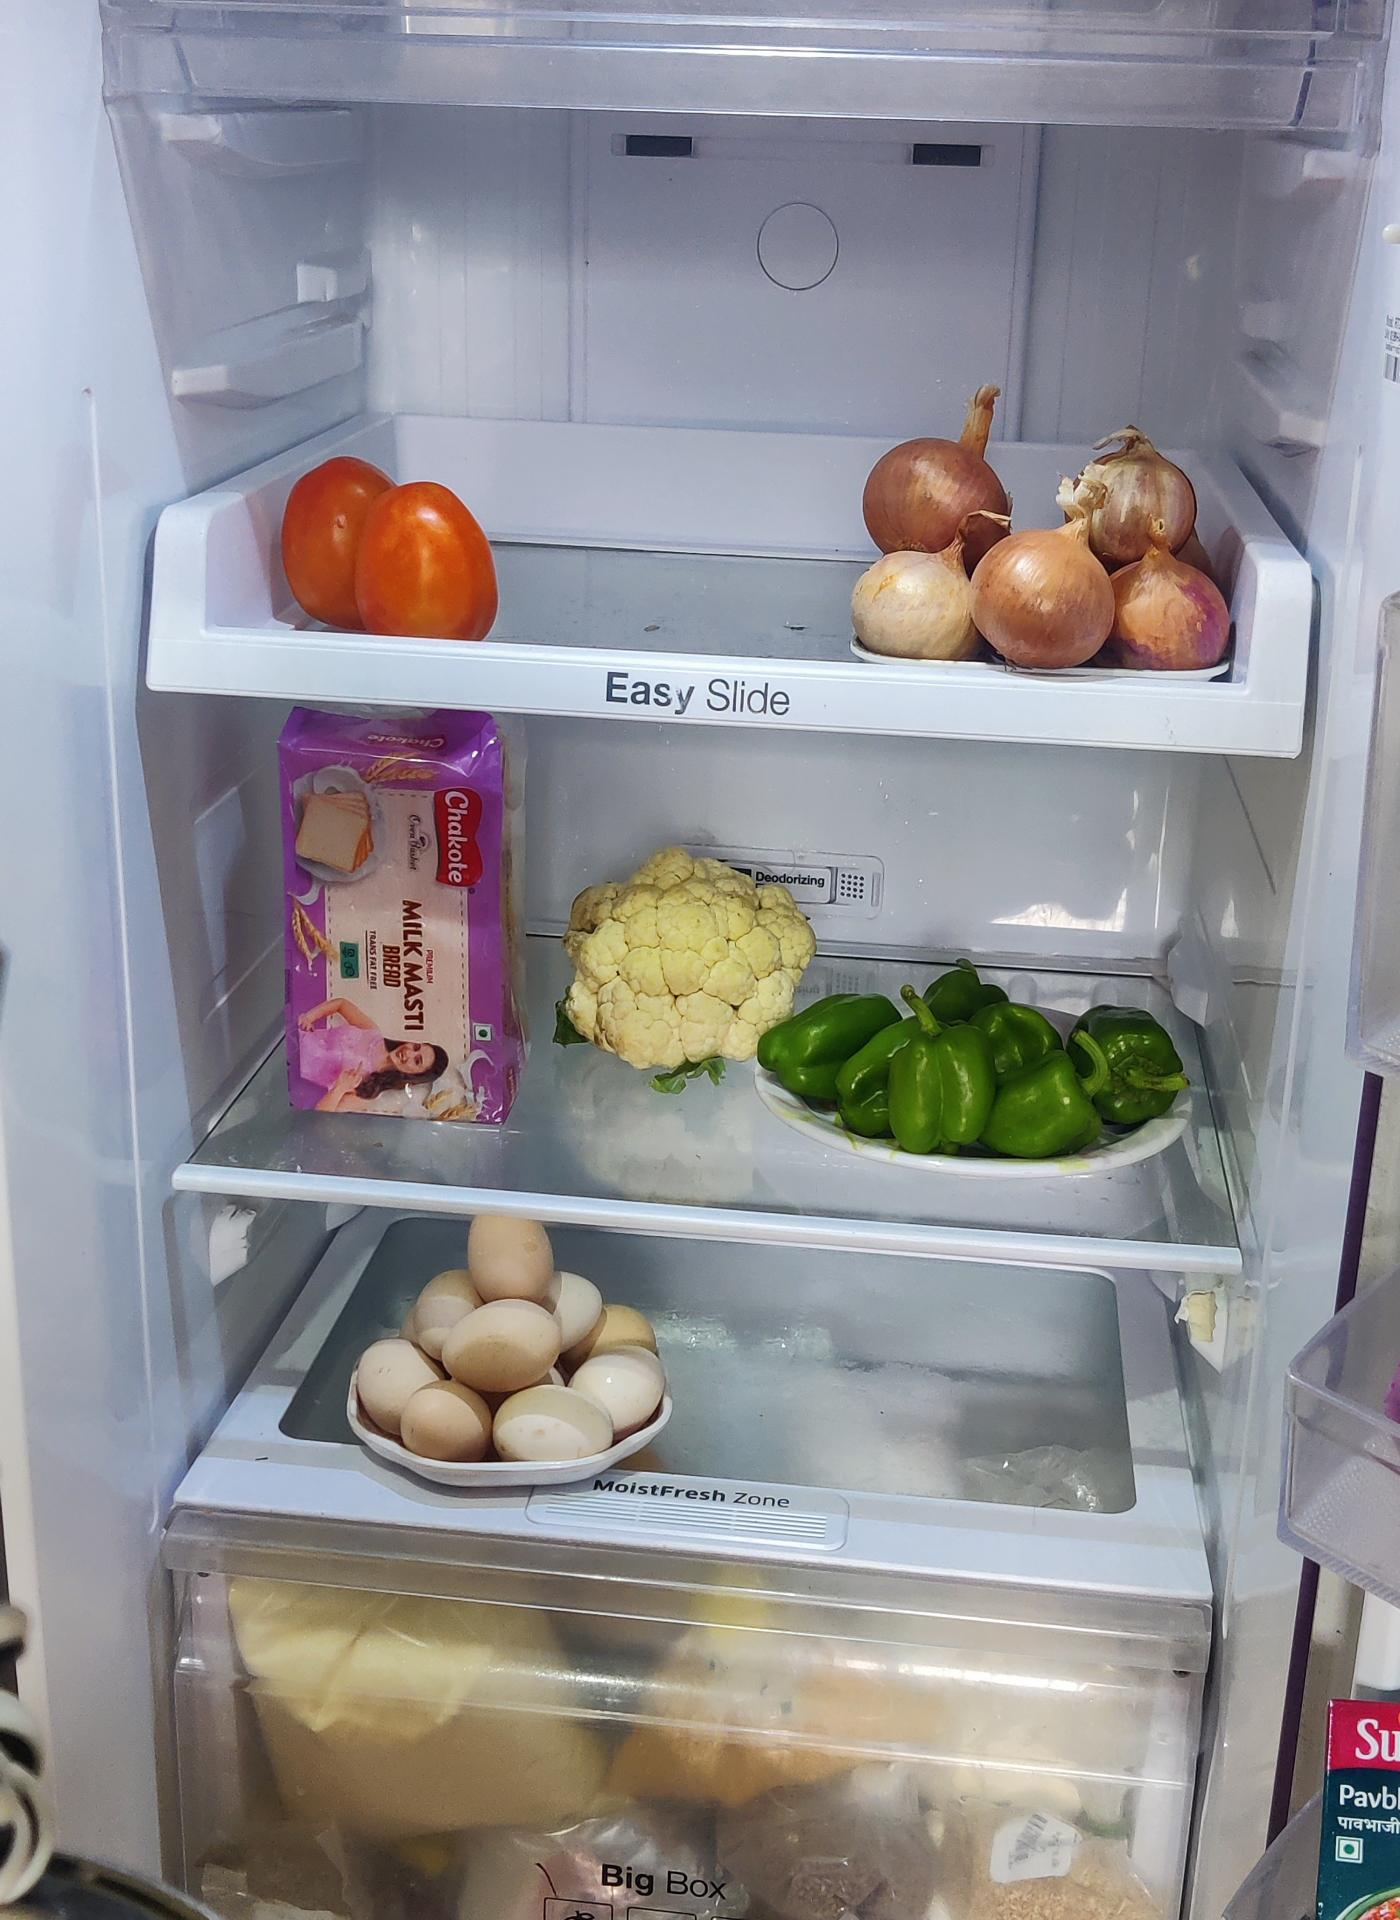bread: (279, 705, 540, 1122)
capsicum: (756, 966, 1193, 1157)
cauliflower: (558, 856, 814, 1075)
egg: (340, 1209, 660, 1468)
onion: (842, 404, 1243, 680)
tomato: (286, 461, 507, 648)
